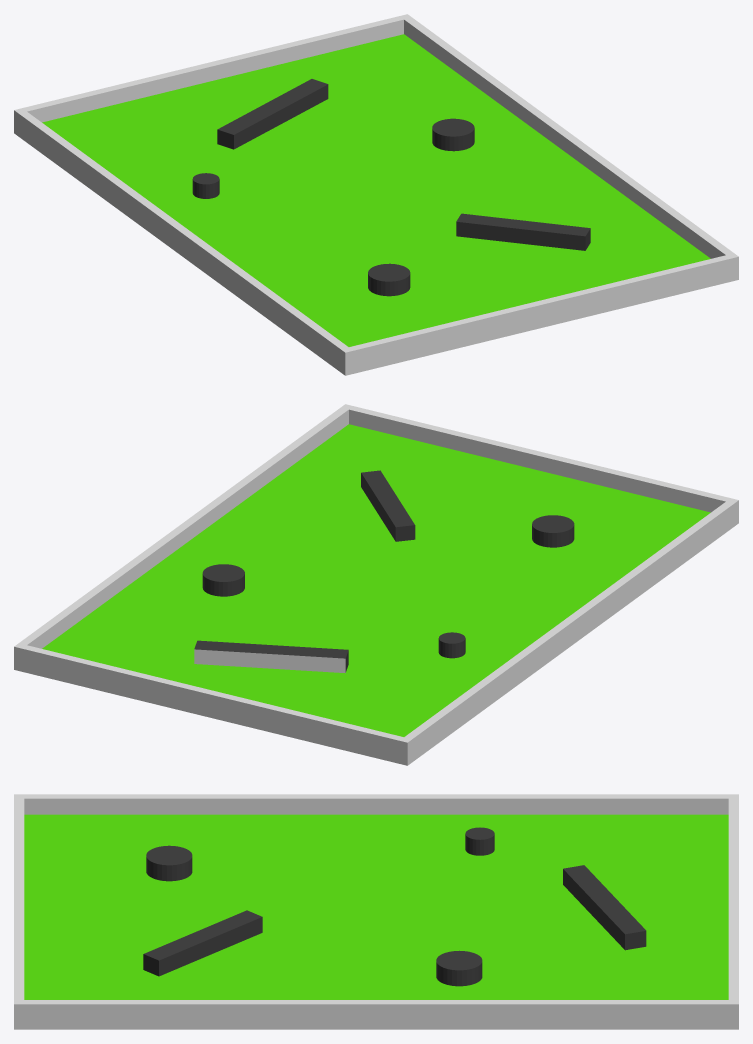
Rendered from four_ws_stage.dae.
3 views of the same model, one above another, from view 1: azimuth 30°, elevation 25°; view 2: azimuth 150°, elevation 25°; view 3: azimuth 270°, elevation 25° (orthographic). The views are drawn at different scales.
Parts seen in each view (by area): view 1: Four Ws Stage3; view 2: Four Ws Stage3; view 3: Four Ws Stage3.
Boxes of the visible parts, x1=… form: Four Ws Stage3: x1=14, y1=14, x2=738, y2=375; Four Ws Stage3: x1=14, y1=404, x2=738, y2=765; Four Ws Stage3: x1=14, y1=794, x2=738, y2=1029.
Size of the model in its own units: 4.8 by 7 by 0.27.
